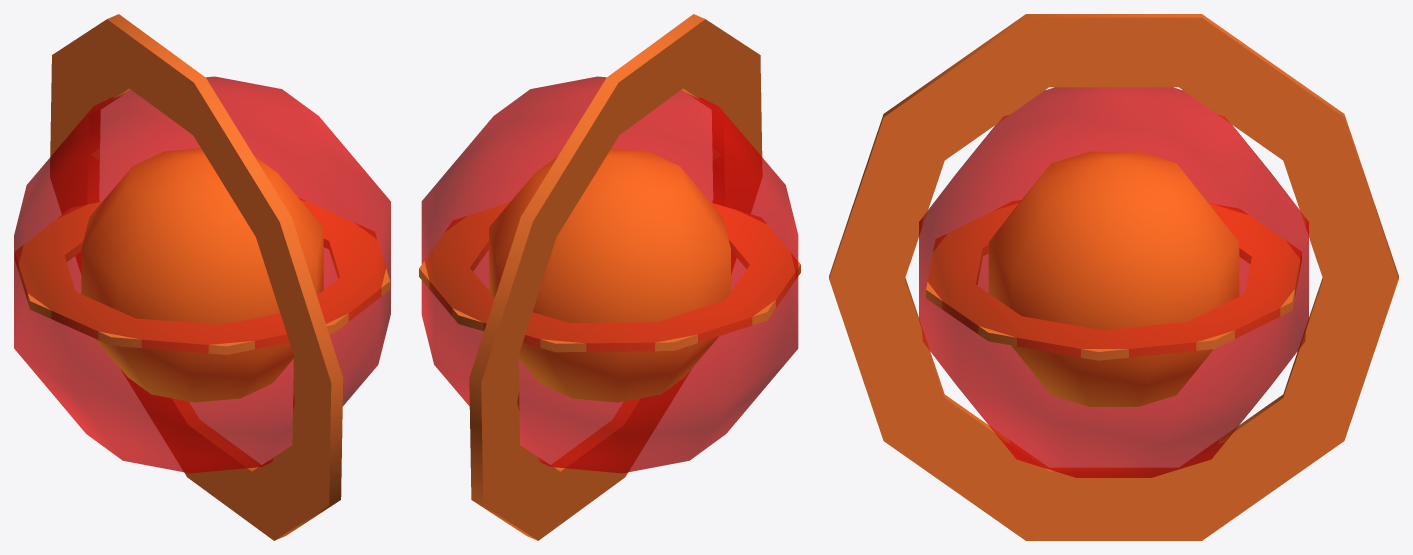
Rendered from Enemy_Attack15.obj.
3 renders of one model, left to right at view 1: azimuth 30°, elevation 25°; view 2: azimuth 150°, elevation 25°; view 3: azimuth 270°, elevation 25°, orthographic.
Parts seen in each view (by area): view 1: Sphere002, Tube001, Sphere001, Tube002; view 2: Sphere002, Tube001, Sphere001, Tube002; view 3: Sphere002, Tube001, Sphere001, Tube002.
Part boxes in pixels (<box>): Sphere002: <box>14,76,390,473</box>; Tube001: <box>50,14,343,540</box>; Sphere001: <box>81,148,323,402</box>; Tube002: <box>15,198,390,354</box>; Sphere002: <box>421,76,798,473</box>; Tube001: <box>469,14,762,540</box>; Sphere001: <box>489,148,730,402</box>; Tube002: <box>419,202,800,352</box>; Sphere002: <box>919,87,1308,477</box>; Tube001: <box>829,14,1398,540</box>; Sphere001: <box>988,151,1239,406</box>; Tube002: <box>926,200,1301,360</box>.
Bounding box in the file's own units: 21.46 × 29.86 × 31.73.
